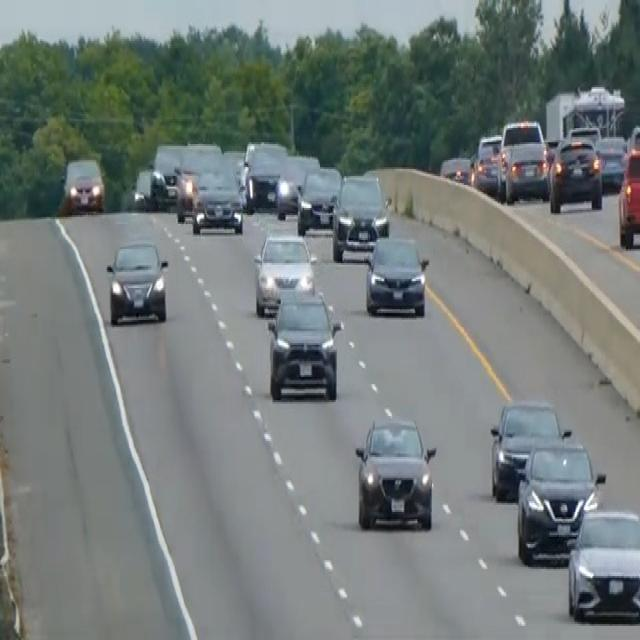car: (515, 434, 605, 564), (566, 505, 639, 622), (489, 396, 566, 499), (105, 237, 169, 326), (252, 230, 315, 316), (364, 233, 429, 316), (331, 171, 390, 261), (548, 135, 603, 213), (190, 158, 244, 235), (174, 142, 221, 222), (296, 163, 342, 234), (274, 153, 319, 219), (62, 155, 105, 213), (244, 151, 286, 210), (617, 144, 639, 249), (150, 140, 185, 204), (472, 132, 502, 194), (594, 134, 627, 190), (132, 163, 168, 210), (243, 137, 286, 171), (439, 153, 472, 185), (565, 122, 601, 148)
jeep: (352, 411, 438, 533), (266, 284, 343, 402), (496, 116, 549, 202)
